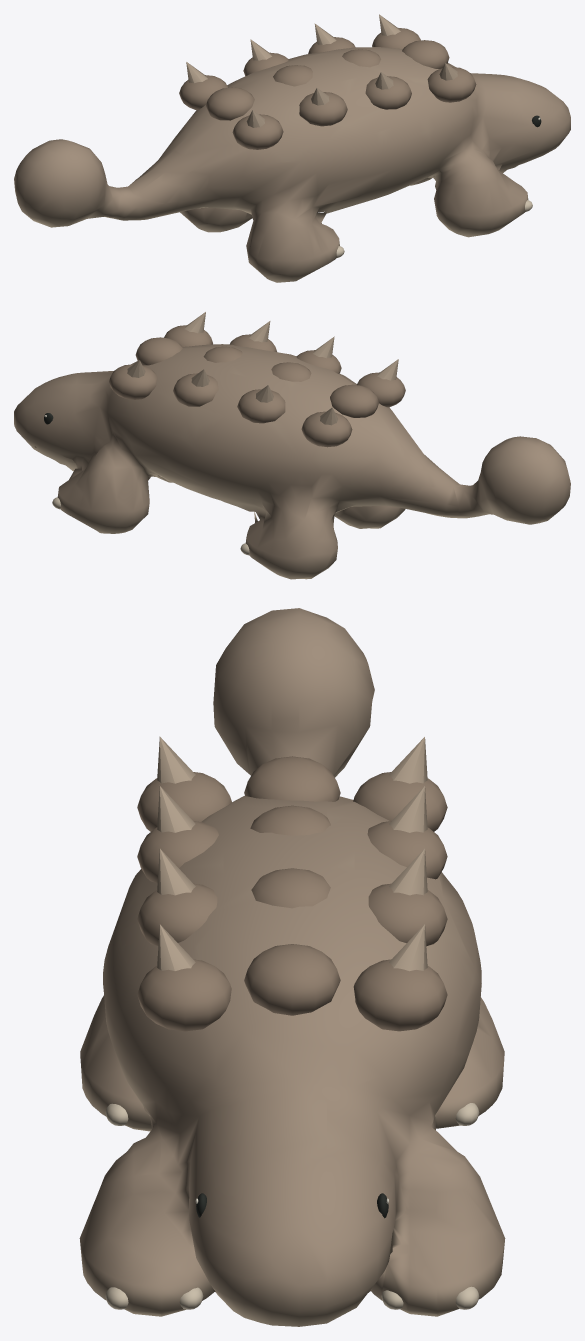
Rendered from ankylosaurus.glb.
3 renders of one model, top to bottom at view 1: azimuth 30°, elevation 25°; view 2: azimuth 150°, elevation 25°; view 3: azimuth 270°, elevation 25°, orthographic. The views are drawn at different scales.
Visible parts, largest first — view 1: clay-toy; view 2: clay-toy; view 3: clay-toy.
Boxes of the visible parts, x1=… form: clay-toy: x1=14, y1=14, x2=570, y2=282; clay-toy: x1=14, y1=312, x2=570, y2=579; clay-toy: x1=79, y1=608, x2=505, y2=1326.
Bounding box in the file's own units: 3.67 × 1.17 × 1.23.
